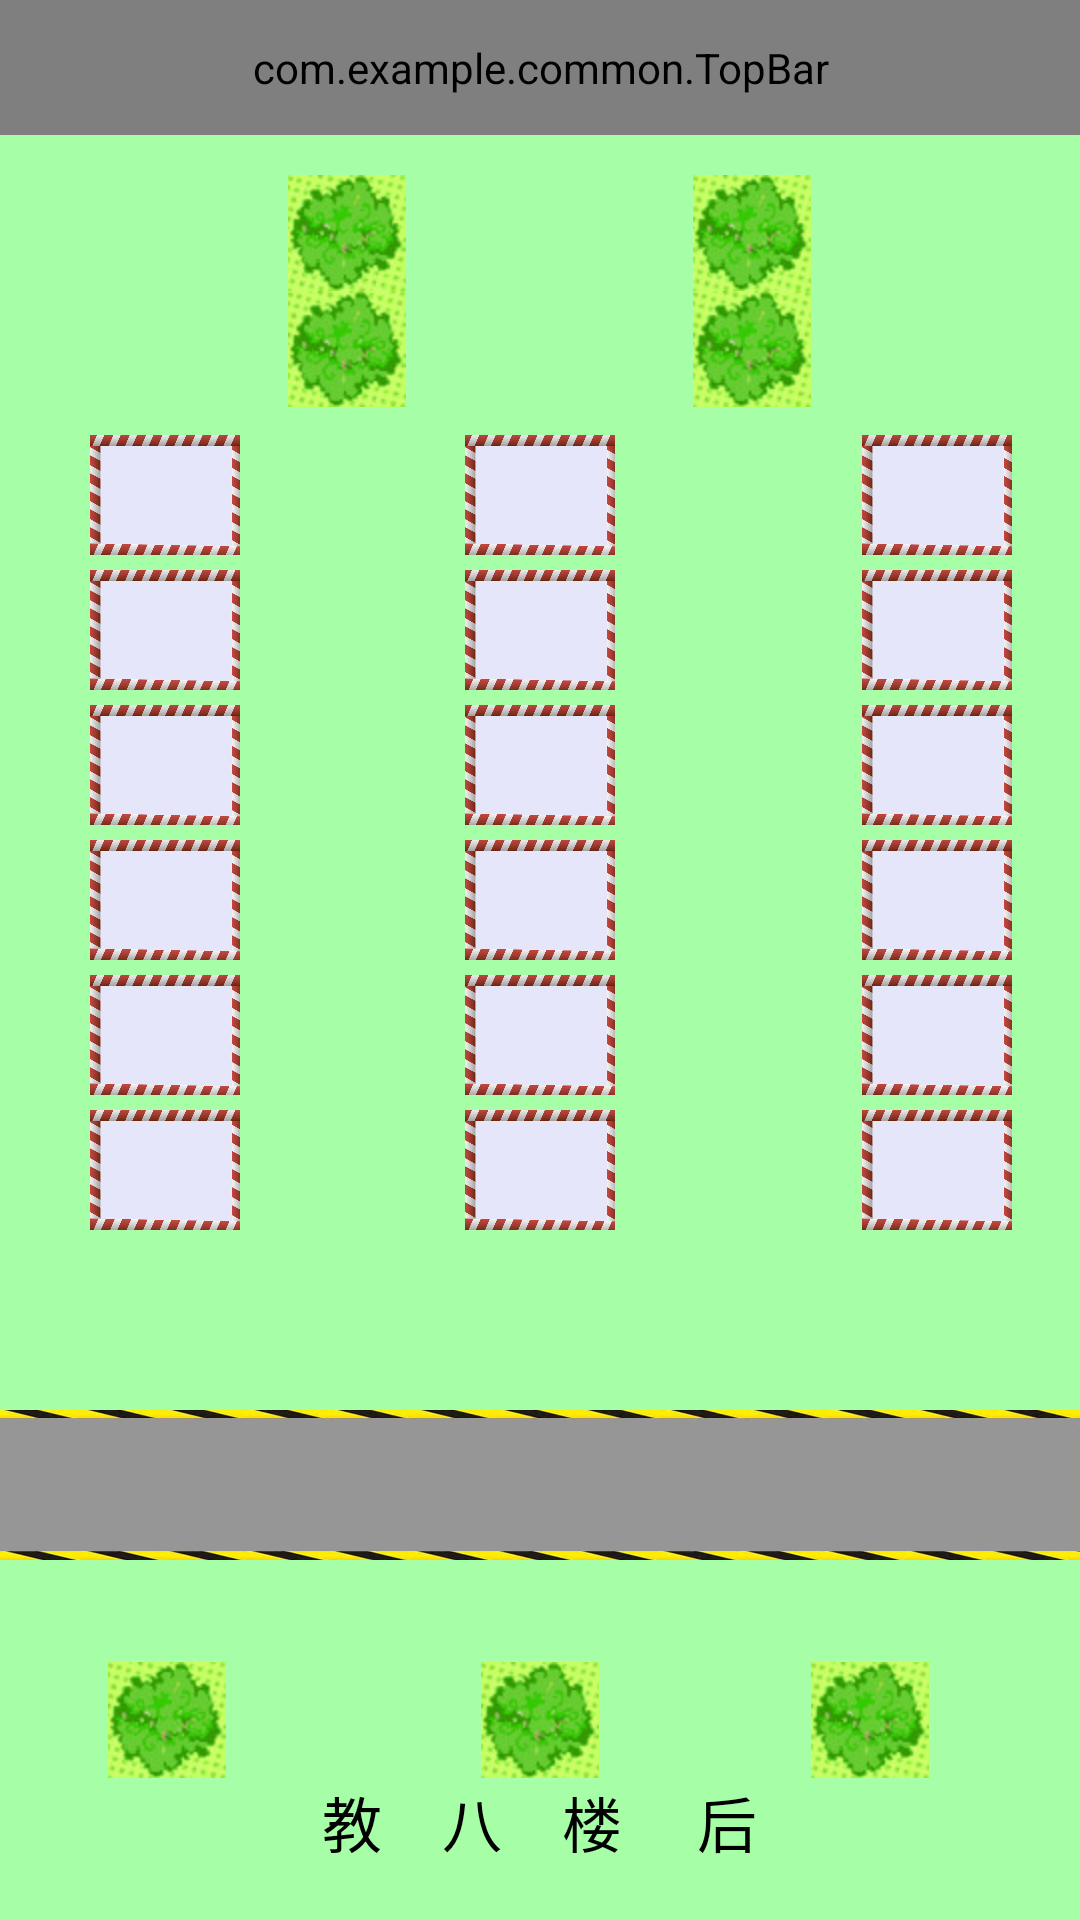

Locate icon controls on the screen. Image size 1080x1920, boxes as BBox(x1, y1, x2, y2).
shu: BBox(288, 175, 406, 291), BBox(693, 175, 811, 291), BBox(288, 291, 406, 407), BBox(693, 291, 811, 407), BBox(108, 1662, 226, 1778), BBox(481, 1662, 599, 1778), BBox(811, 1662, 929, 1778)
